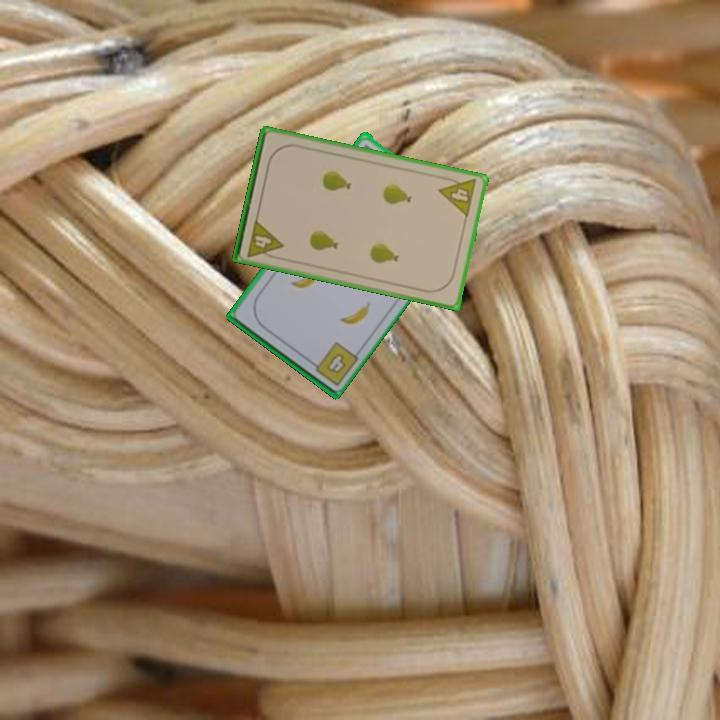4b: (322, 349, 349, 376)
4p: (435, 172, 480, 220), (243, 216, 286, 262)
